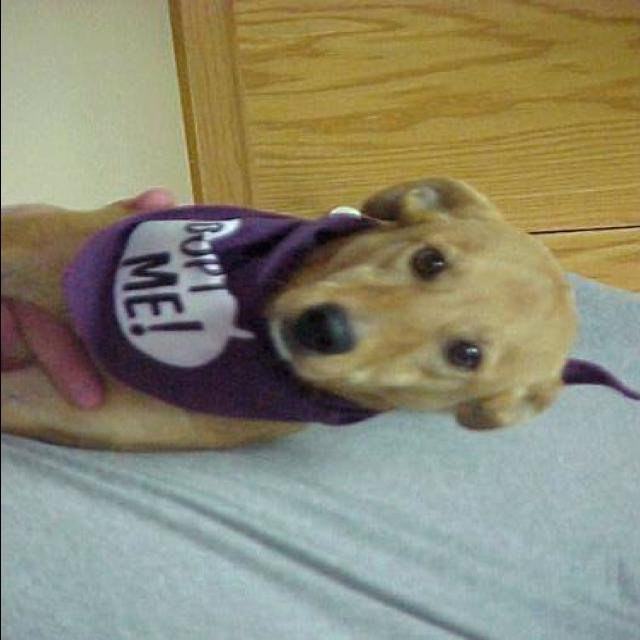dog: (1, 165, 584, 476)
